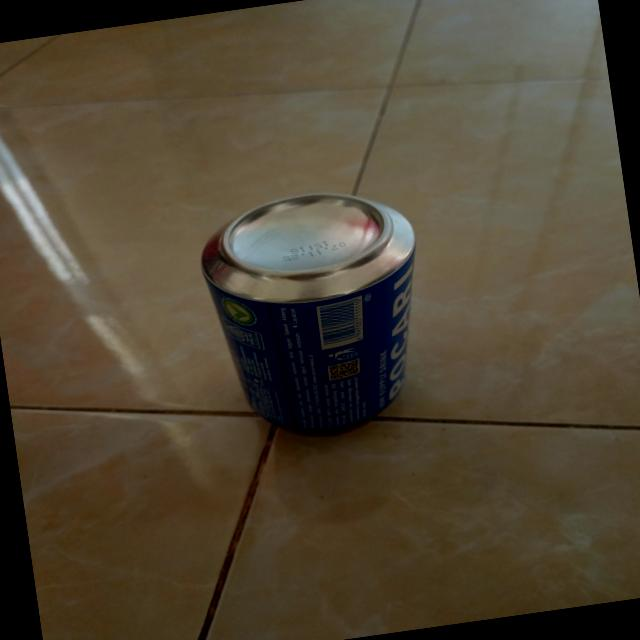pocari-sweat: (192, 177, 442, 451)
